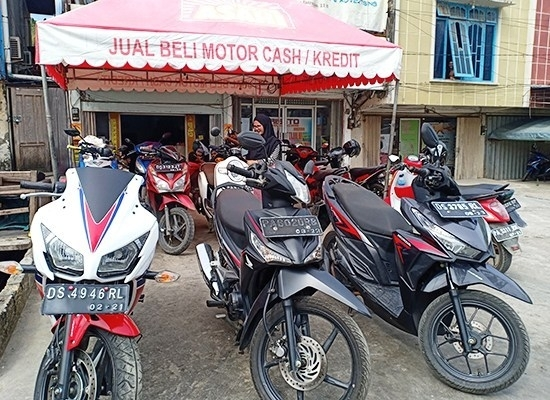plate: (44, 284, 127, 315), (261, 218, 322, 235), (433, 200, 487, 218), (157, 164, 182, 173)
